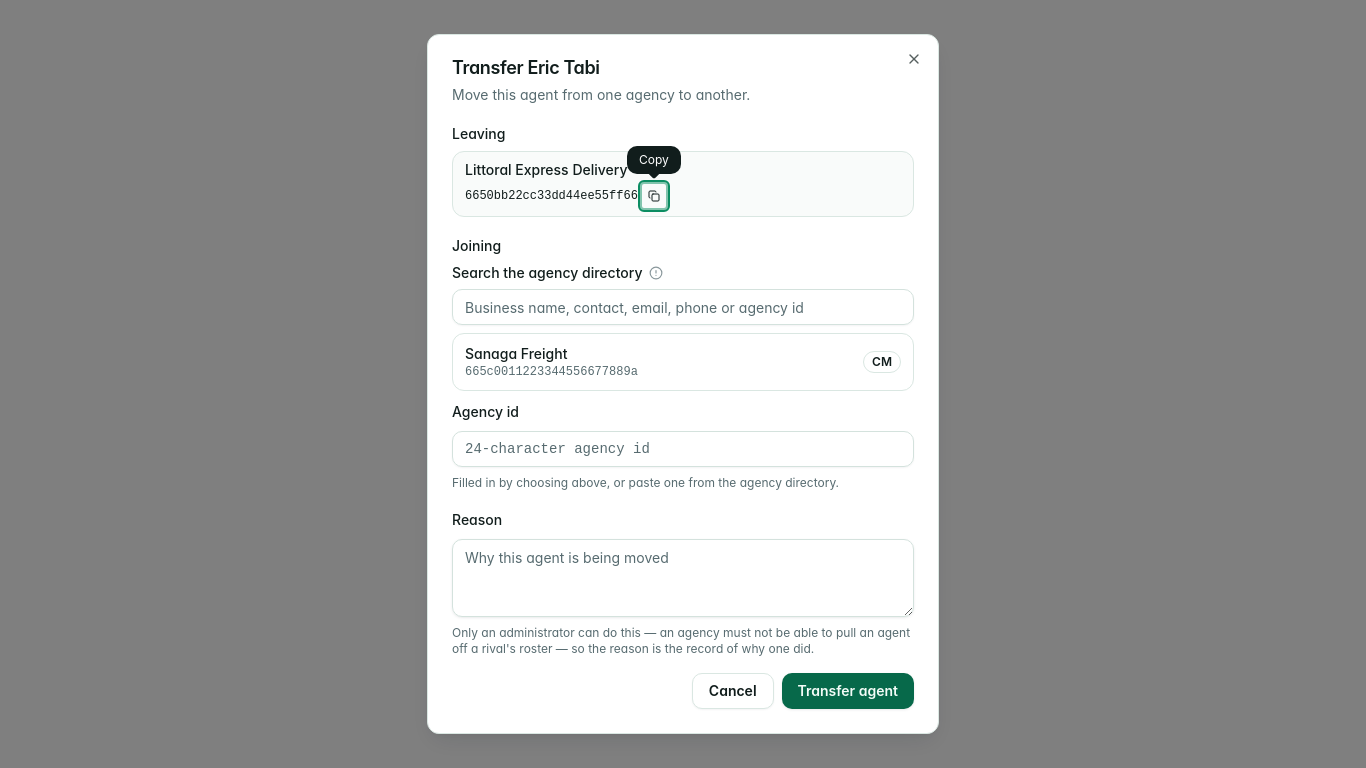
Scenario: the agency being joined › fills the id field from the chosen row
Click the button "Sanaga Freight 665c0011223344556677889a CM" at (516, 354), box [457,338,909,386]
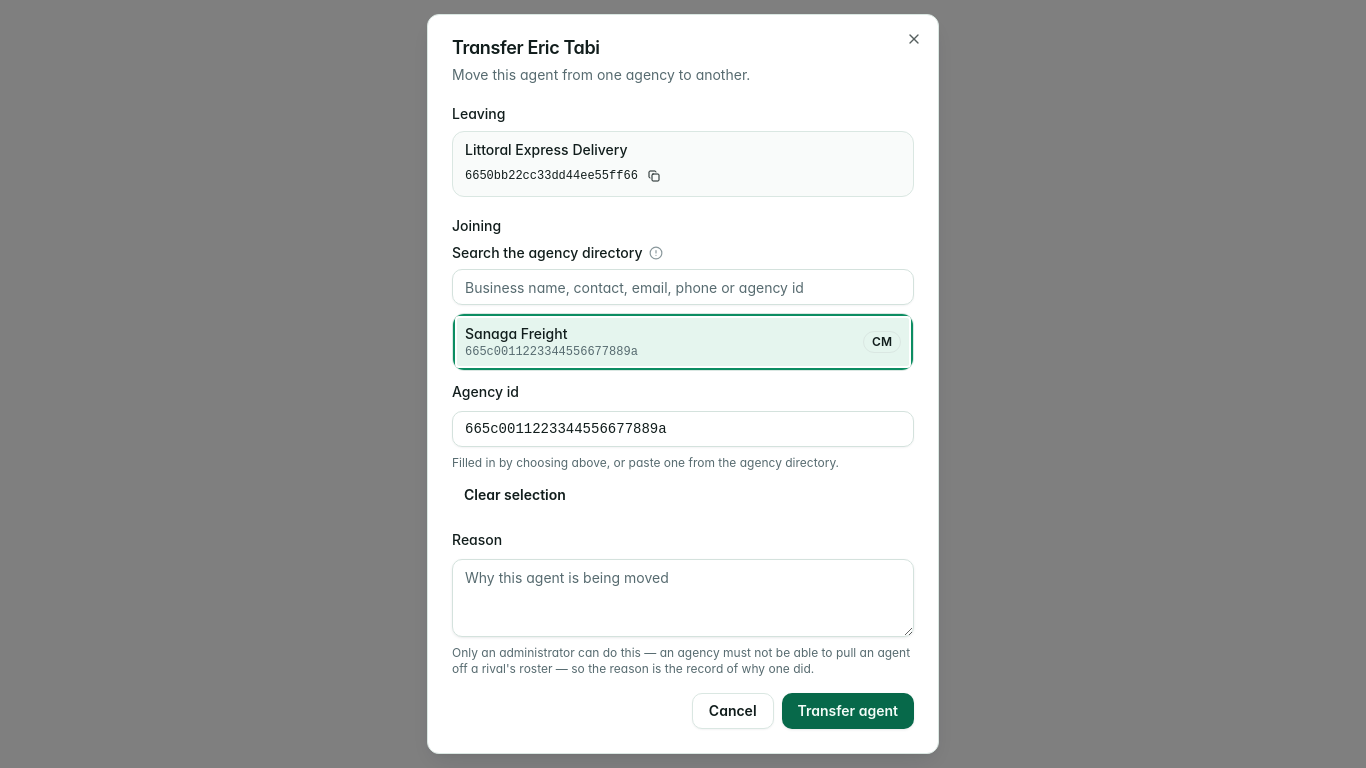
expect the field labelled "Agency id" holds "665c0011223344556677889a": met, box [452,411,914,447]
